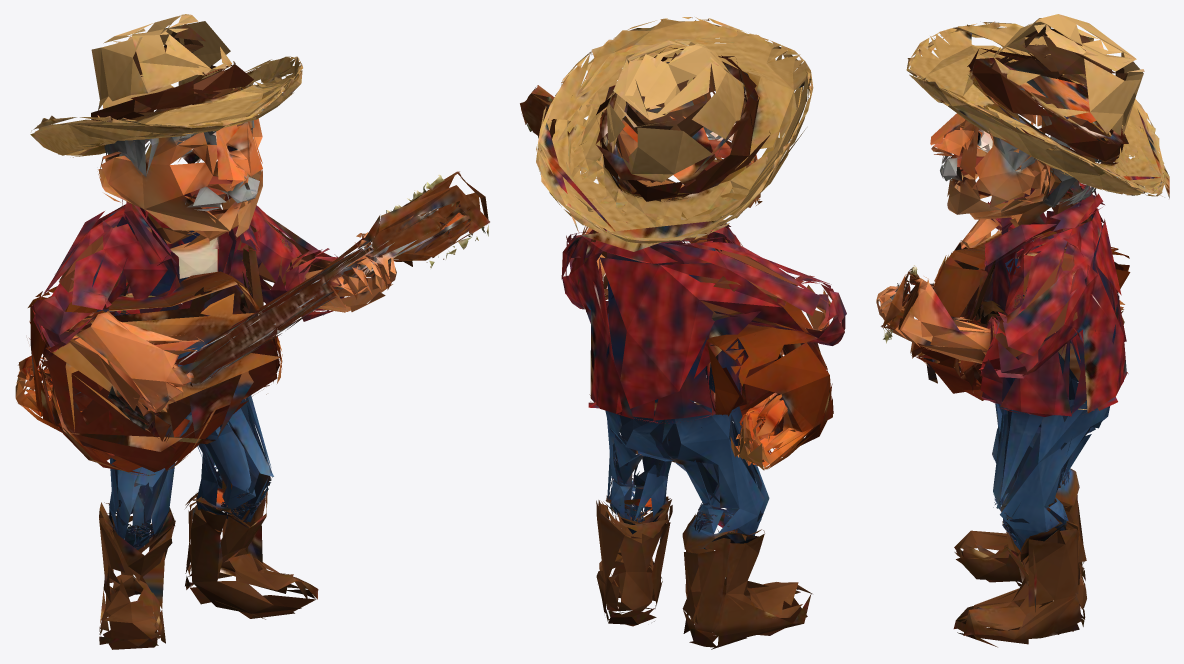
Rendered from CenarioViola.glb.
3 views of the same model, side by side, from view 1: azimuth 30°, elevation 25°; view 2: azimuth 150°, elevation 25°; view 3: azimuth 270°, elevation 25° (orthographic).
Visible parts, largest first — view 1: out.obj; view 2: out.obj; view 3: out.obj.
Part boxes in pixels (x1,y1,x2,y2): out.obj: (15,14,489,649); out.obj: (520,17,846,649); out.obj: (876,14,1169,647).
Bounding box in the file's own units: 0.6903 × 1 × 0.4615.
Materials: 1 (1 with a texture image).
